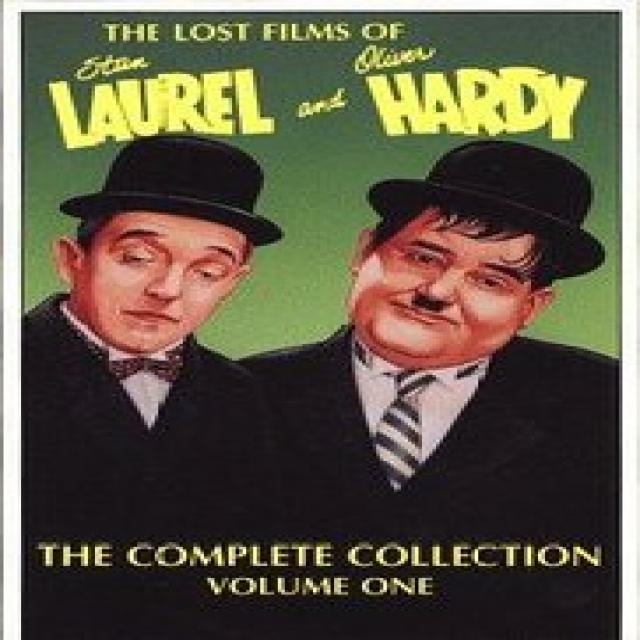movie-judul: (31, 18, 614, 150), (34, 540, 617, 604)
picture: (25, 143, 619, 528)
